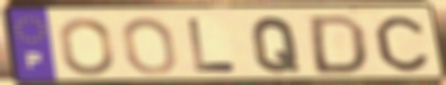C: (371, 14, 431, 74)
D: (307, 13, 369, 76)
L: (185, 17, 240, 74)
O: (120, 16, 180, 77), (57, 16, 117, 77)
Q: (250, 15, 303, 75)
